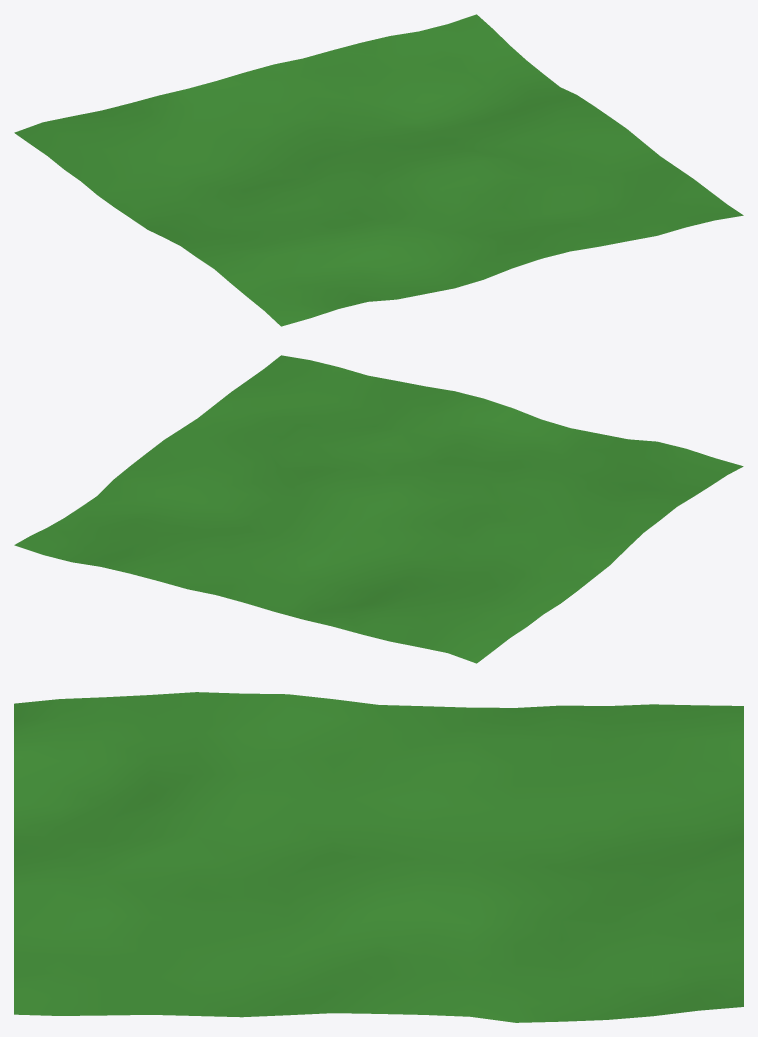
Rendered from ground.dae.
The picture shows the model from 3 angles, top to bottom: view 1: azimuth 30°, elevation 25°; view 2: azimuth 150°, elevation 25°; view 3: azimuth 270°, elevation 25°; orthographic projection. The views are drawn at different scales.
Visible parts, largest first — view 1: Plane; view 2: Plane; view 3: Plane.
Part boxes in pixels (box(x1,y1,x2,y2)): Plane: box(14, 14, 743, 326); Plane: box(14, 355, 743, 663); Plane: box(14, 692, 743, 1022).
Bounding box in the file's own units: 26.39 × 26.39 × 0.9394.
